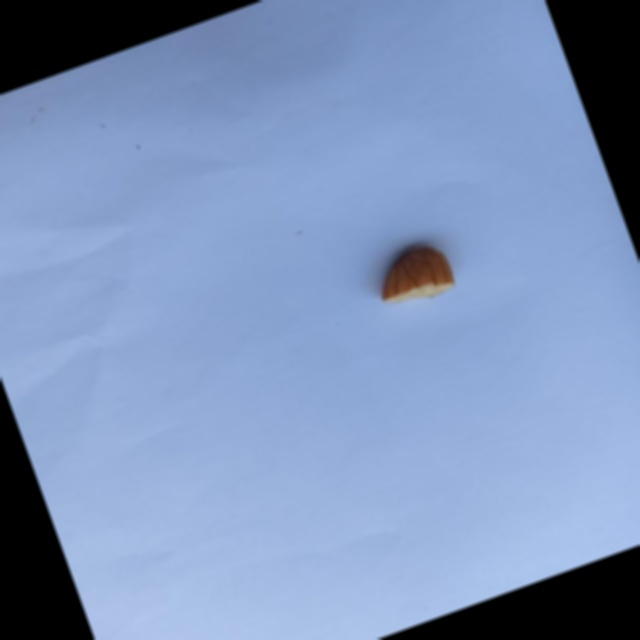grade4: (360, 231, 466, 320)
